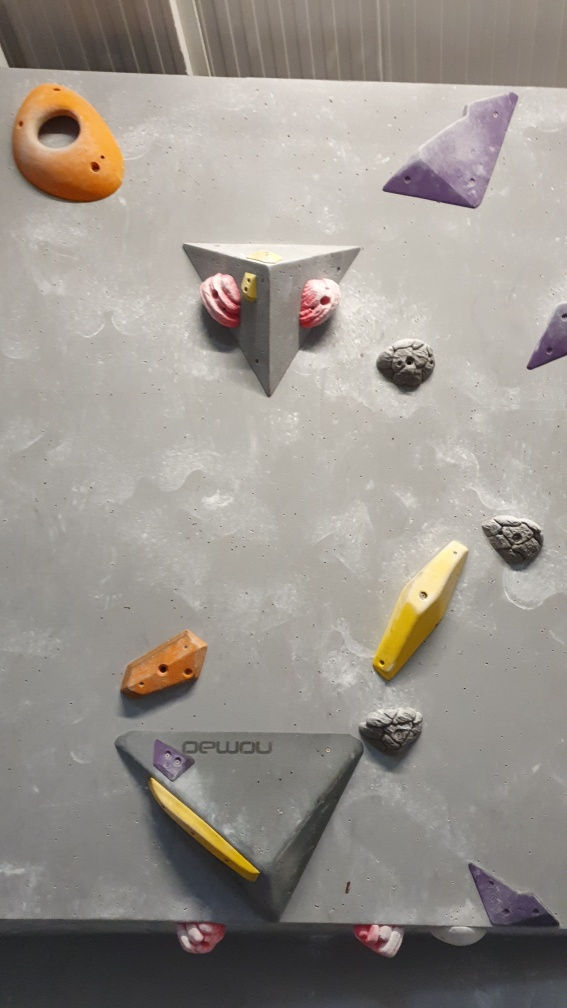Jug: (478, 512, 544, 572), (371, 335, 438, 394), (292, 272, 348, 337), (355, 710, 425, 752), (199, 271, 243, 332), (170, 920, 228, 965), (352, 922, 411, 961)
Pinch: (367, 537, 471, 684), (114, 628, 210, 703)
Pocket: (13, 79, 125, 208)
